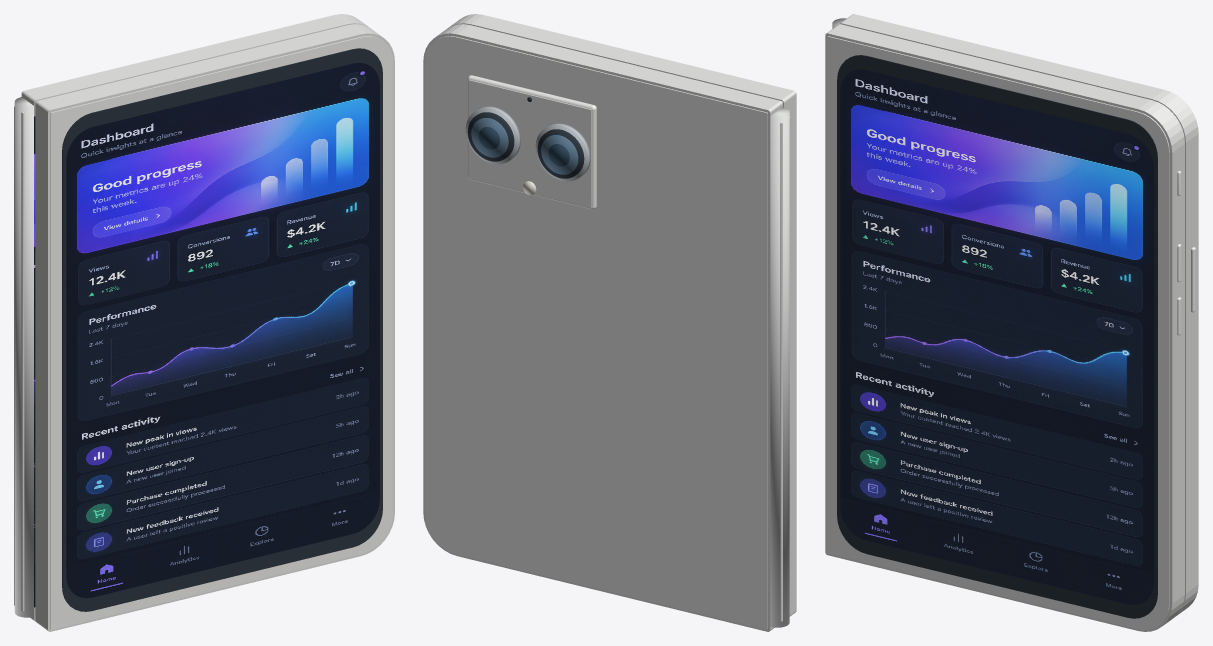
Rendered from iphone-duo.glb.
3 renders of one model, left to right at view 1: azimuth 30°, elevation 25°; view 2: azimuth 150°, elevation 25°; view 3: azimuth 330°, elevation 25°, orthographic.
Parts seen in each view (by area): view 1: ScreenOuter, LeftRearCeramic, LeftTitaniumFrame, OuterDisplayBezel, TitaniumHingeSpine, RightTitaniumFrame, HingeJoint, ScreenInner; view 2: RightRearCeramic, TitaniumHingeSpine, RightTitaniumFrame, LeftTitaniumFrame, CameraIslandGlass, HingeJoint, RearCameraIsland, RearLensOptic1, RearLensOptic2, RearLensRing1, RearLensRing2, RearLensWell1 (+1 smaller); view 3: ScreenOuter, LeftRearCeramic, LeftTitaniumFrame, OuterDisplayBezel, RightTitaniumFrame.
Boxes of the visible parts, bbox=[...] form: ScreenOuter: bbox=[66, 62, 379, 598]; LeftRearCeramic: bbox=[50, 36, 393, 629]; LeftTitaniumFrame: bbox=[35, 24, 394, 631]; OuterDisplayBezel: bbox=[62, 48, 382, 611]; TitaniumHingeSpine: bbox=[14, 97, 33, 617]; RightTitaniumFrame: bbox=[21, 14, 370, 621]; HingeJoint: bbox=[14, 106, 24, 611]; ScreenInner: bbox=[34, 116, 35, 607]; RightRearCeramic: bbox=[425, 36, 767, 629]; TitaniumHingeSpine: bbox=[770, 107, 789, 627]; RightTitaniumFrame: bbox=[423, 24, 782, 631]; LeftTitaniumFrame: bbox=[448, 14, 796, 616]; CameraIslandGlass: bbox=[468, 79, 591, 208]; HingeJoint: bbox=[780, 116, 790, 621]; RearCameraIsland: bbox=[467, 75, 596, 209]; RearLensOptic1: bbox=[541, 135, 578, 174]; RearLensOptic2: bbox=[471, 118, 508, 157]; RearLensRing1: bbox=[535, 123, 590, 181]; RearLensRing2: bbox=[465, 106, 520, 164]; RearLensWell1: bbox=[537, 129, 584, 178]; ScreenOuter: bbox=[840, 69, 1153, 604]; LeftRearCeramic: bbox=[827, 36, 1169, 629]; LeftTitaniumFrame: bbox=[825, 24, 1184, 631]; OuterDisplayBezel: bbox=[837, 55, 1157, 618]; RightTitaniumFrame: bbox=[840, 14, 1198, 615].
Bounding box in the file's own units: 0.0853 × 0.118 × 0.0158.
Materials: 13 (2 with a texture image).
